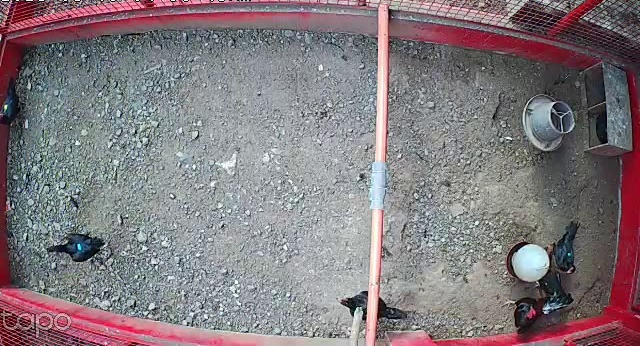Chicken: (332, 285, 409, 326), (542, 220, 584, 276), (44, 231, 107, 263), (530, 268, 577, 303), (0, 74, 30, 127)
Rooster: (501, 288, 568, 335)
Saddle_Color_Blue: (77, 243, 83, 250)
Saddle_Color_YellowGreen: (3, 105, 10, 113)
